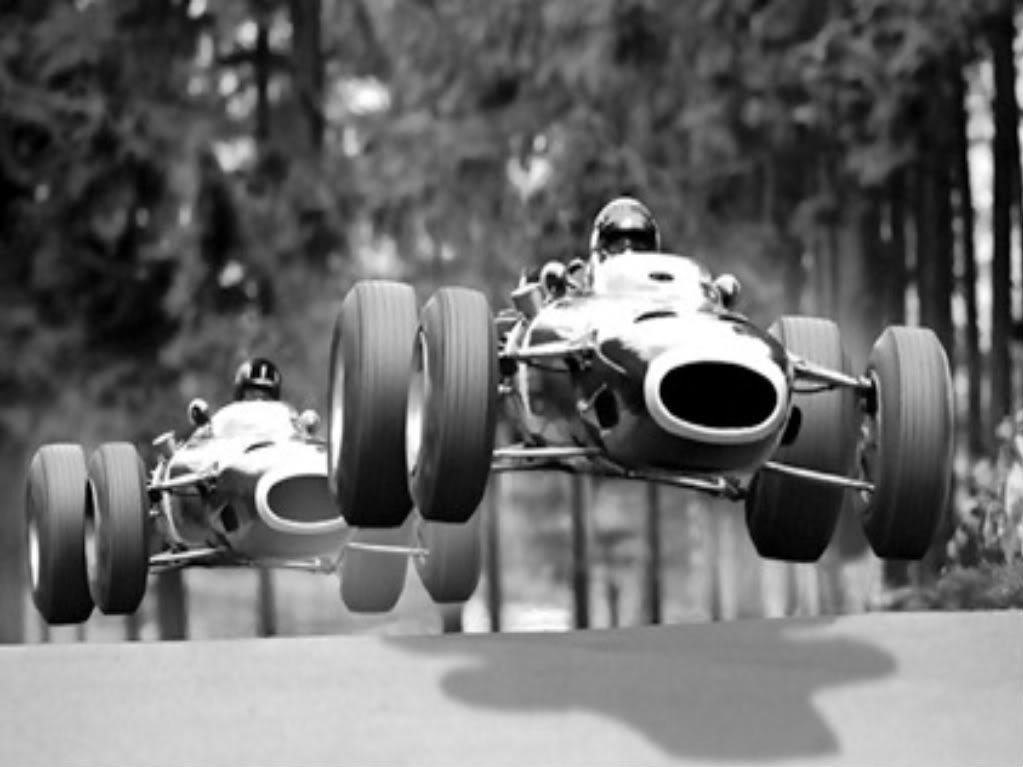f1_car: (312, 183, 968, 571), (16, 351, 492, 633)
